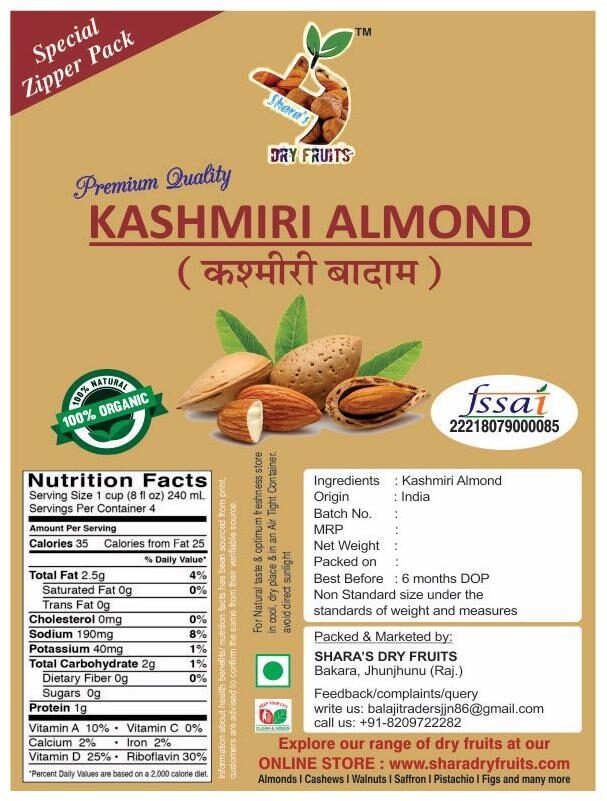fssai: (460, 382, 554, 418)
